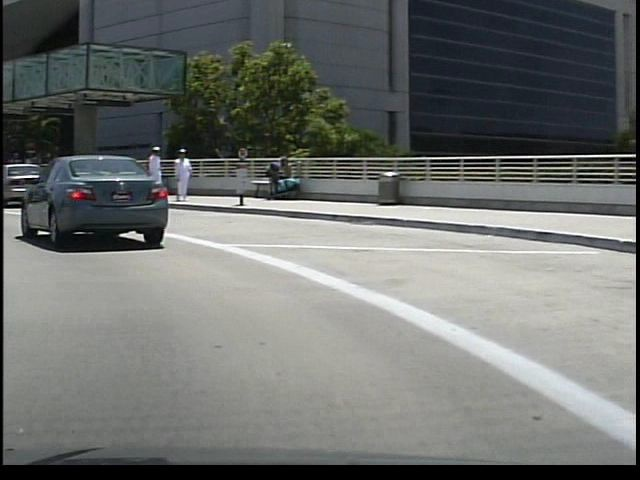person: (59, 147, 86, 213), (135, 142, 165, 200), (167, 145, 190, 207)
